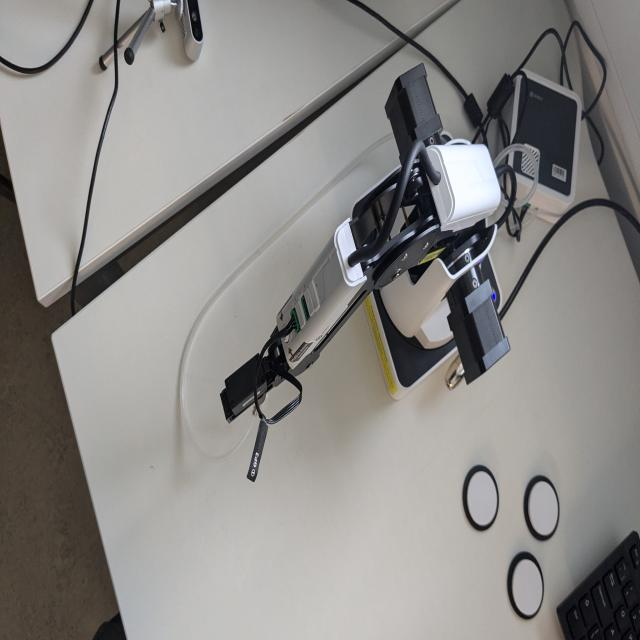Robot-end-effector-HF8z: (217, 348, 274, 429)
